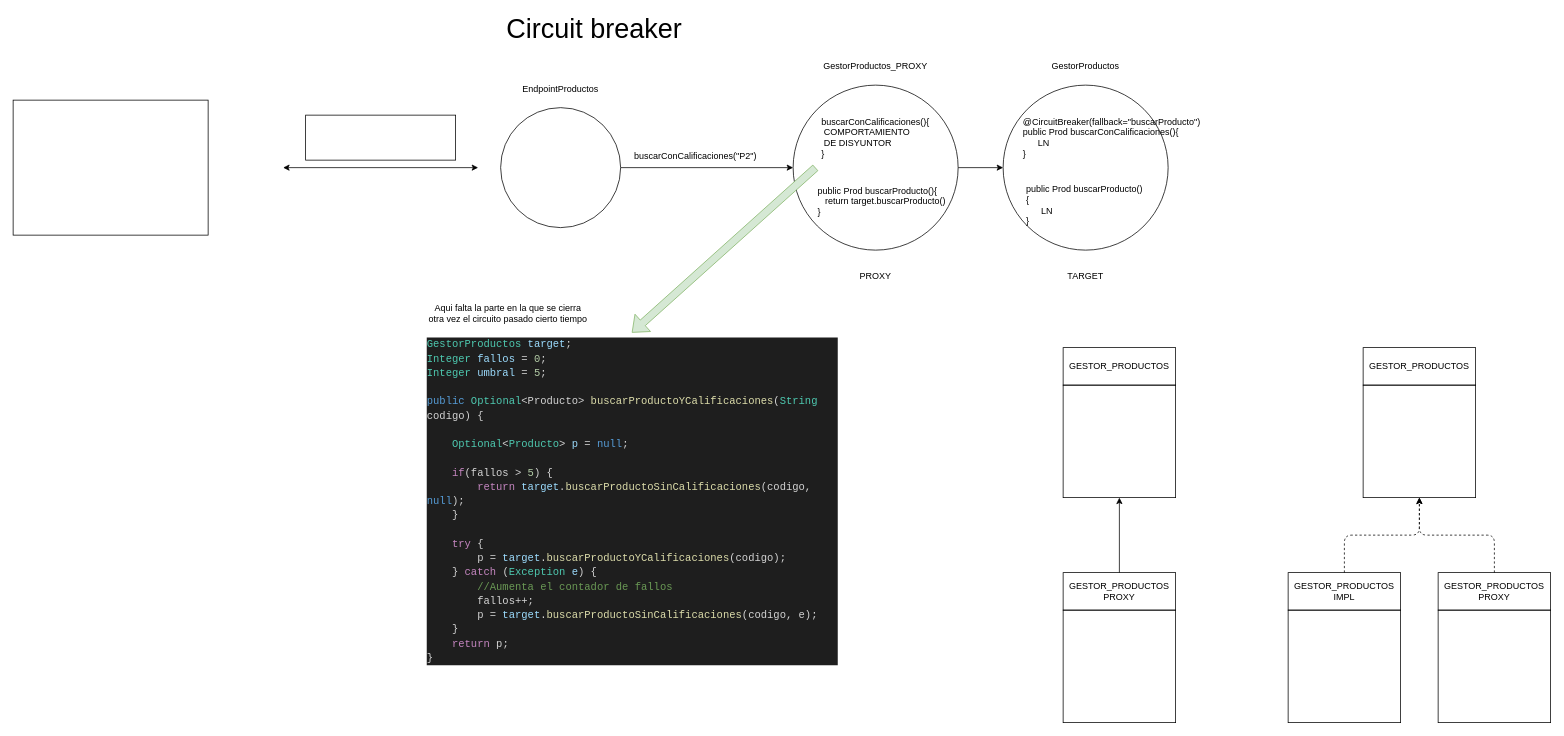
The diagram is 1564 pixels wide and 736 high, and some of its shapes have lost their labels. The box of each missing label's shape, as (x1, y1, x2, y2) in pixels:
Angular React Vue JS+JQ: (12, 99, 208, 235)
GET /productos/P2/calificaciones: (305, 114, 456, 160)
LC: (500, 107, 621, 228)
